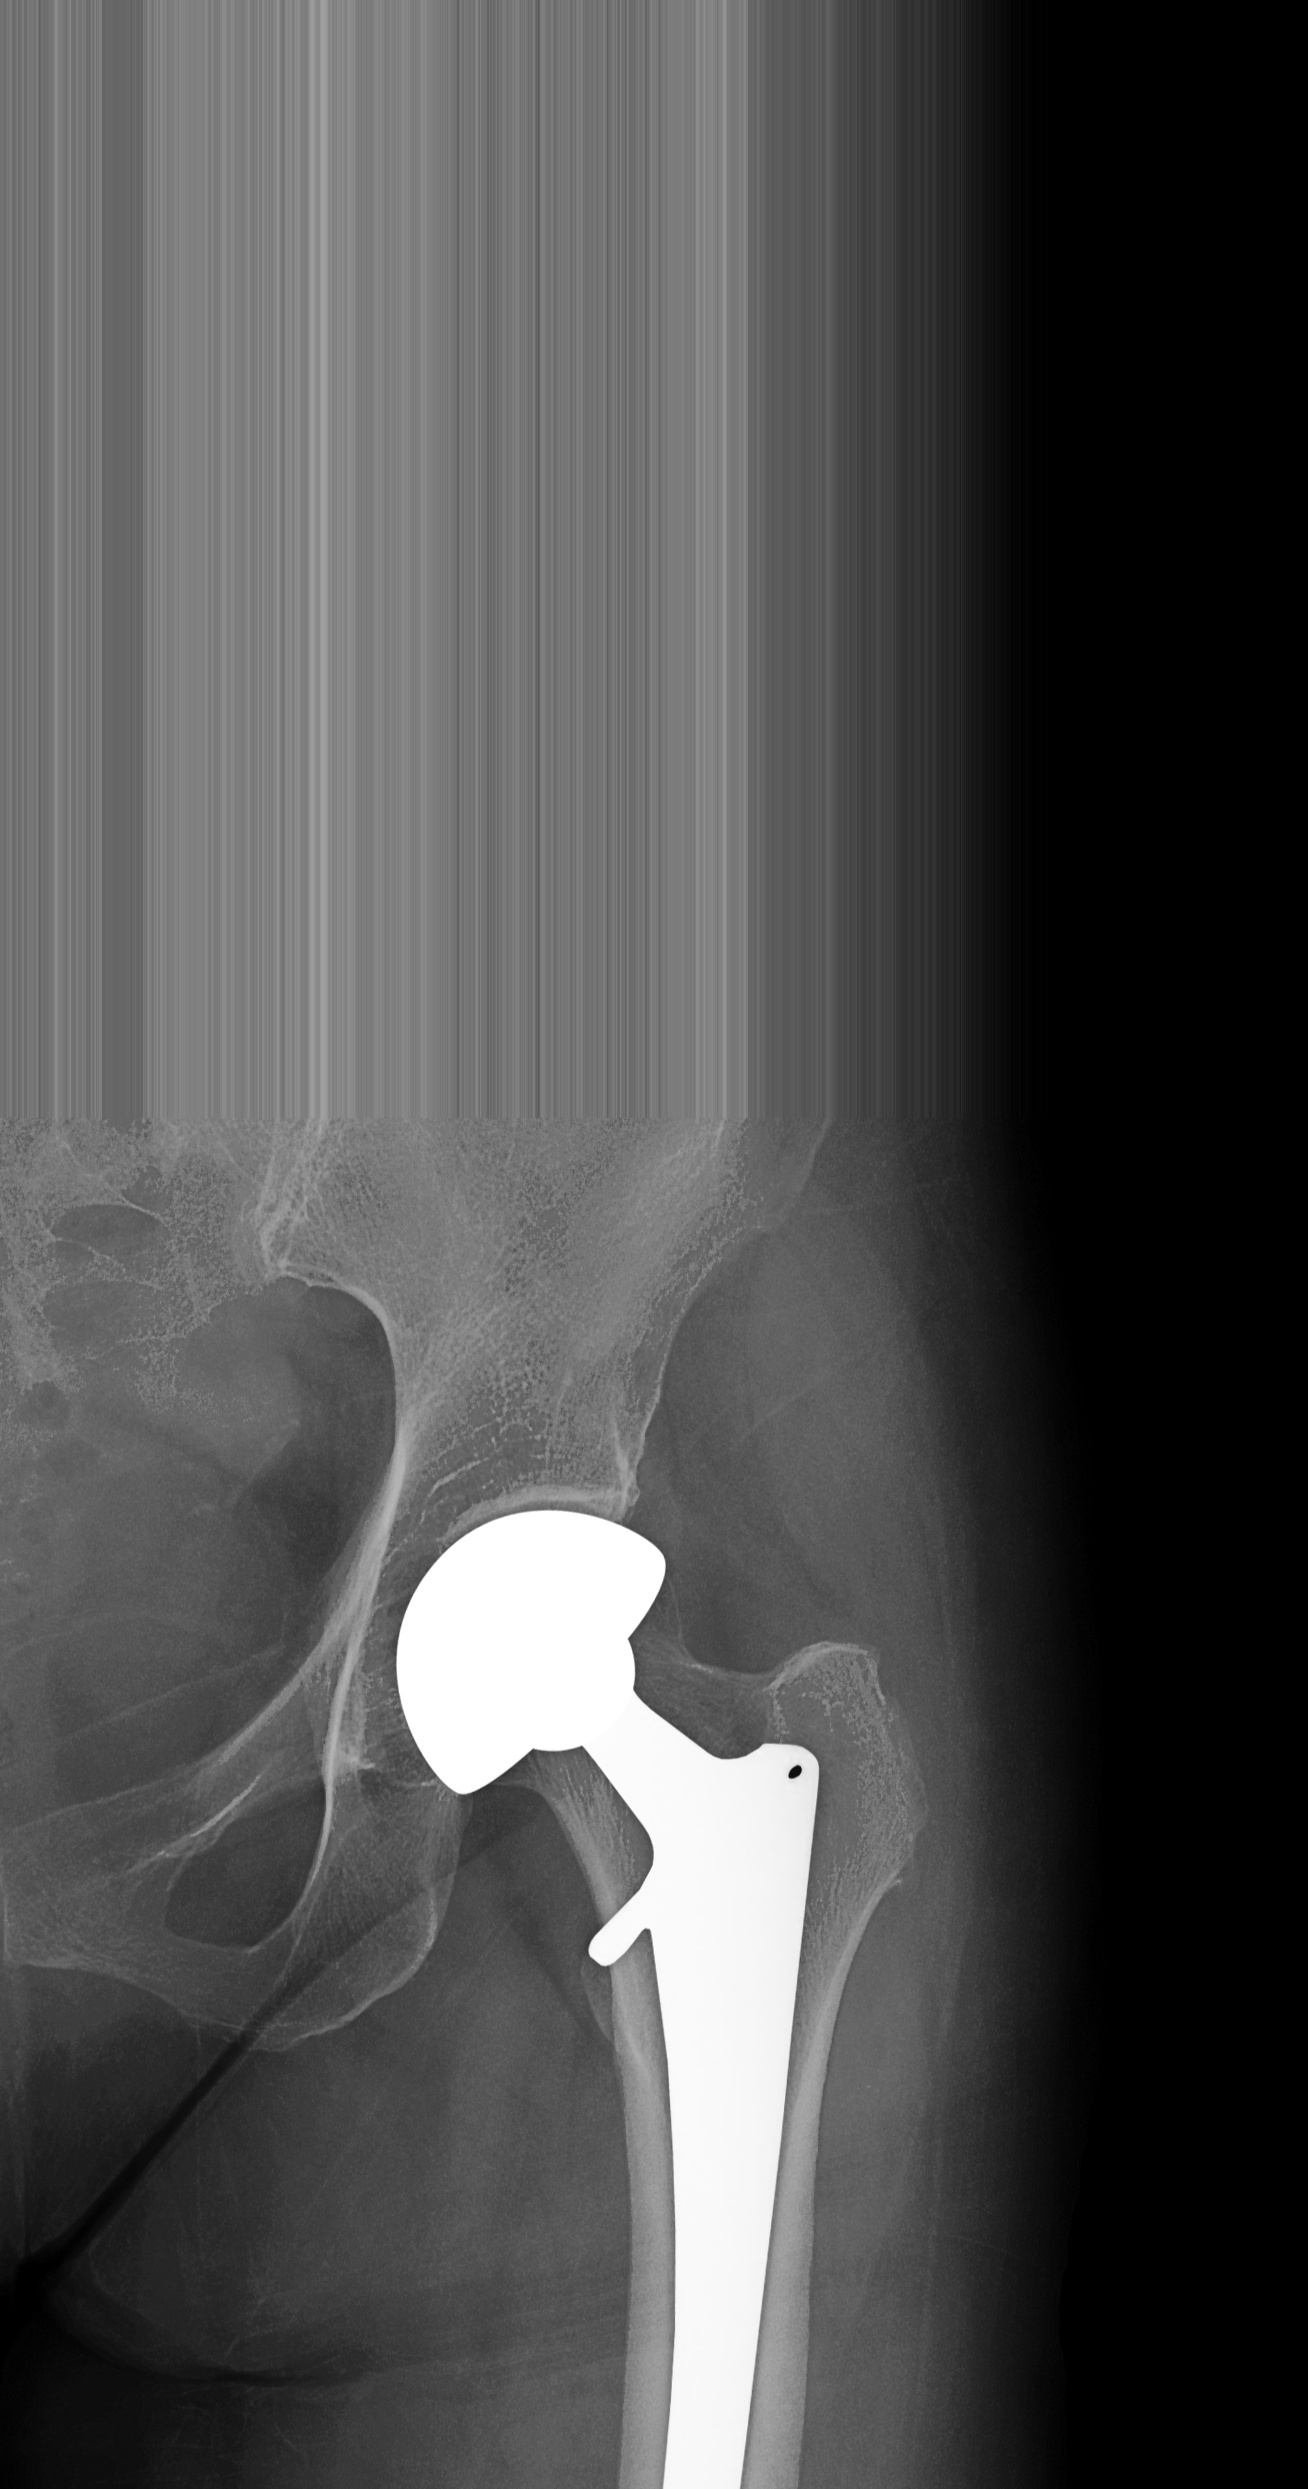Hip - Bias - Zimmer: (326, 1445, 879, 2489)
